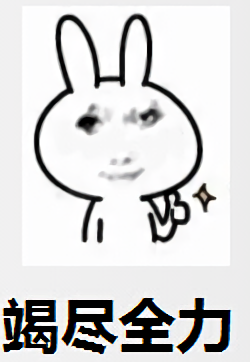dragon: (75, 102, 163, 182)
